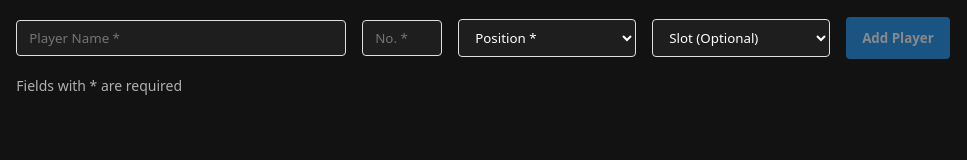
Test: AddPlayer › resets form after adding a player
The width and height of the screenshot is (967, 160).
# Fill in all fields
In the field labelled "Player Name": (181, 38) [16,20,346,56], type "John Doe"
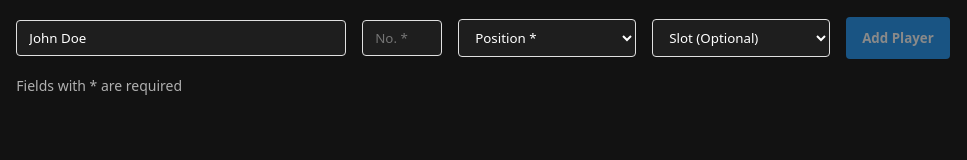
In the number field named "Number": (402, 38) [362,20,442,56], type "8"
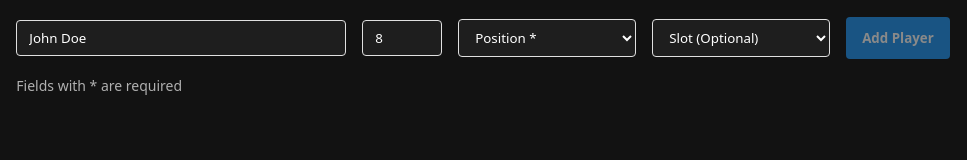
Select "QB" in the dropdown named "Position": (547, 38) [458,18,636,56]
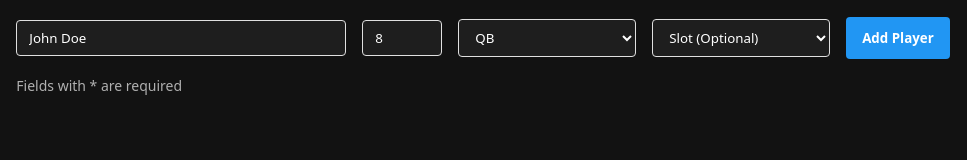
Select "Starter" in the dropdown named "Slot": (741, 38) [652,18,830,56]
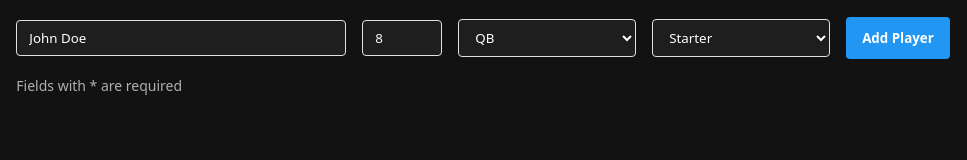
# Submit form
Click the button "Add Player": (898, 38) [846,16,950,58]
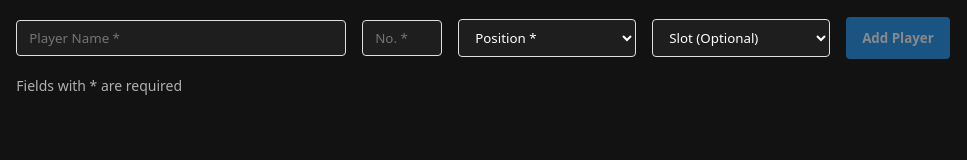
Result: the field labelled "Player Name" is empty at [16,20,346,56]
Result: the number field named "Number" is not empty at [362,20,442,56]
